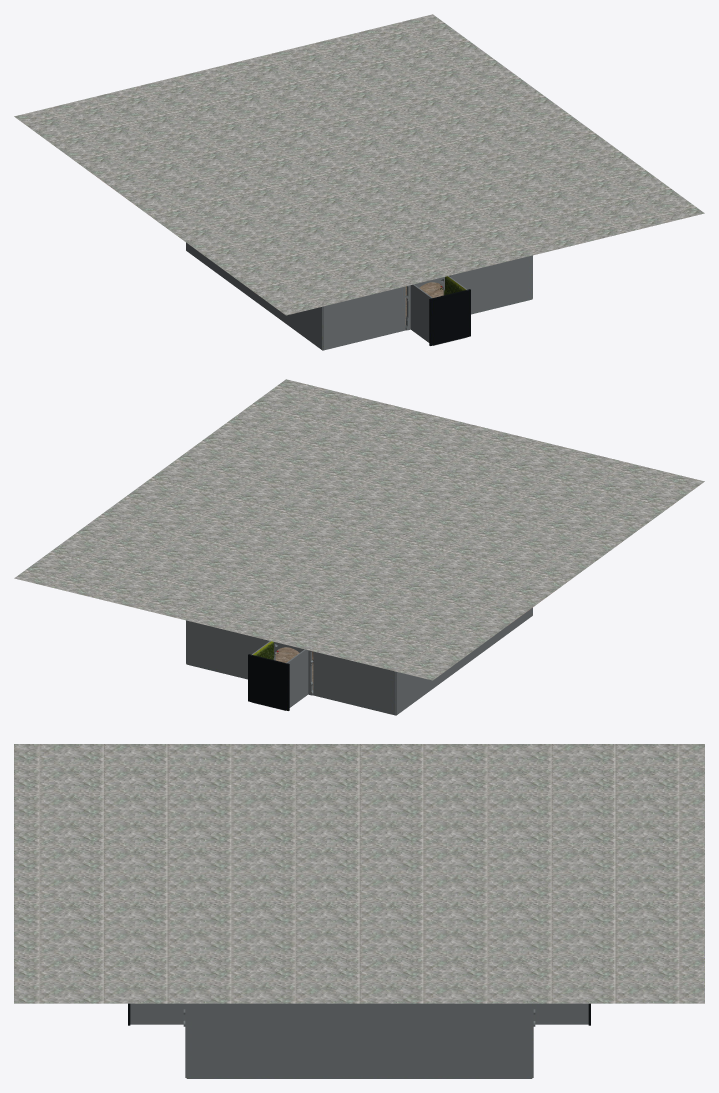
The model's file is room.glb.
3 renders of one model, top to bottom at view 1: azimuth 30°, elevation 25°; view 2: azimuth 150°, elevation 25°; view 3: azimuth 270°, elevation 25°, orthographic. The views are drawn at different scales.
Parts seen in each view (by area): view 1: GARDEN-NORTH; view 2: GARDEN-NORTH; view 3: GARDEN-NORTH.
Boxes of the visible parts, <box> form: GARDEN-NORTH: <box>14,14,704,350</box>; GARDEN-NORTH: <box>14,379,704,715</box>; GARDEN-NORTH: <box>14,744,704,1078</box>.
Size of the model in its own units: 32 by 8.06 by 36.
1 material, 1 textured.
